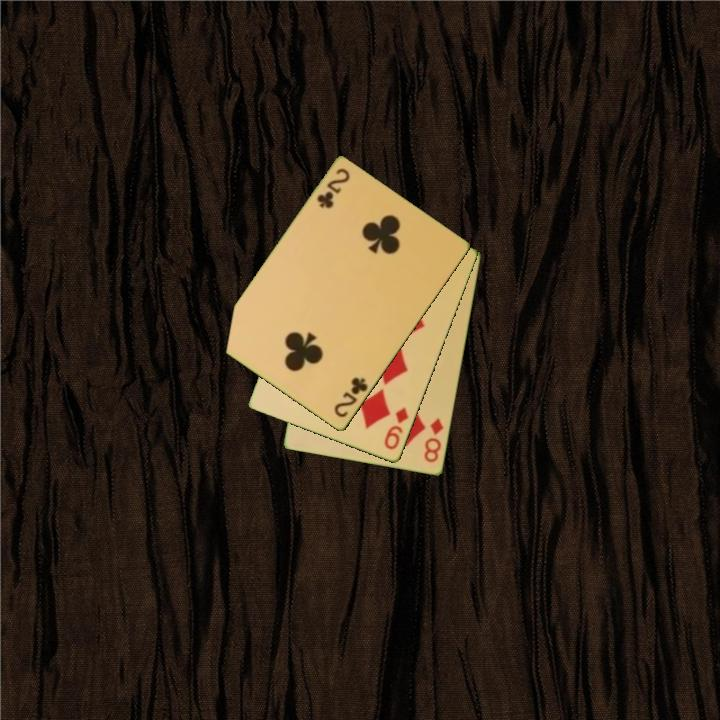2c: (330, 374, 371, 421), (313, 165, 353, 212)
8d: (421, 414, 447, 466)
9d: (381, 404, 412, 453)
